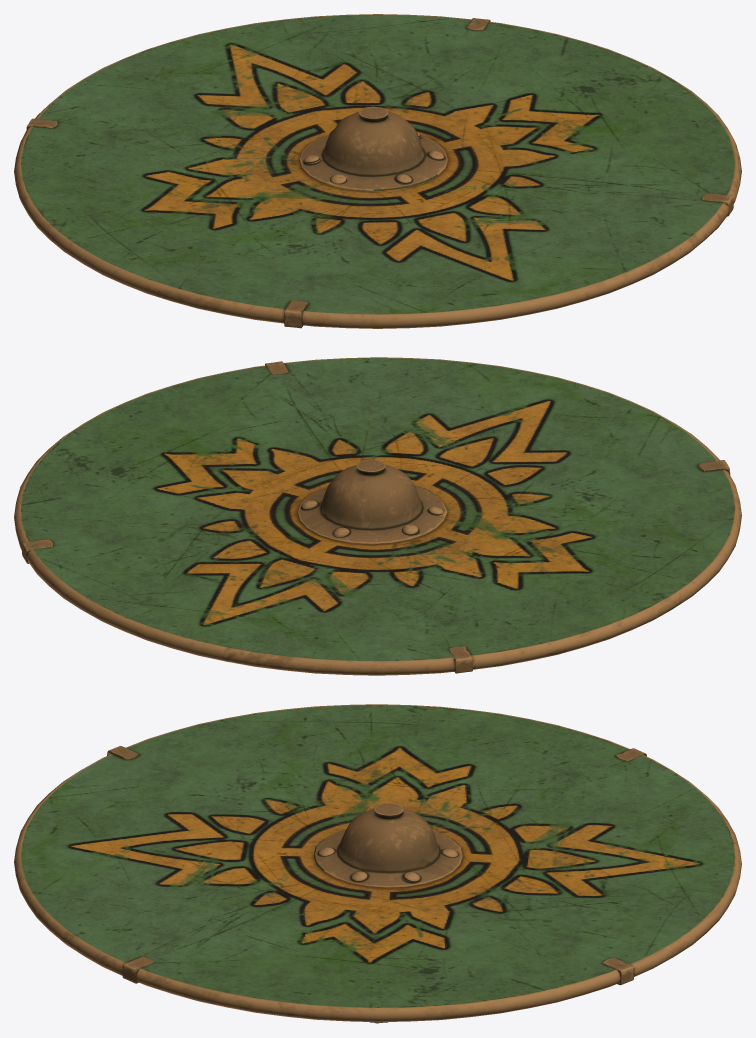
The model's file is cts_rohan_shield1.fbx.
3 views of the same model, one above another, from view 1: azimuth 30°, elevation 25°; view 2: azimuth 150°, elevation 25°; view 3: azimuth 270°, elevation 25° (orthographic).
Parts seen in each view (by area): view 1: cts_rohan_shield1; view 2: cts_rohan_shield1; view 3: cts_rohan_shield1.
Part boxes in pixels (x1,y1,x2,y2): cts_rohan_shield1: (14, 14, 741, 328); cts_rohan_shield1: (14, 357, 741, 675); cts_rohan_shield1: (14, 704, 741, 1023).
Bounding box in the file's own units: 0.9736 × 0.9736 × 0.1045.
Materials: 1 (1 with a texture image).
